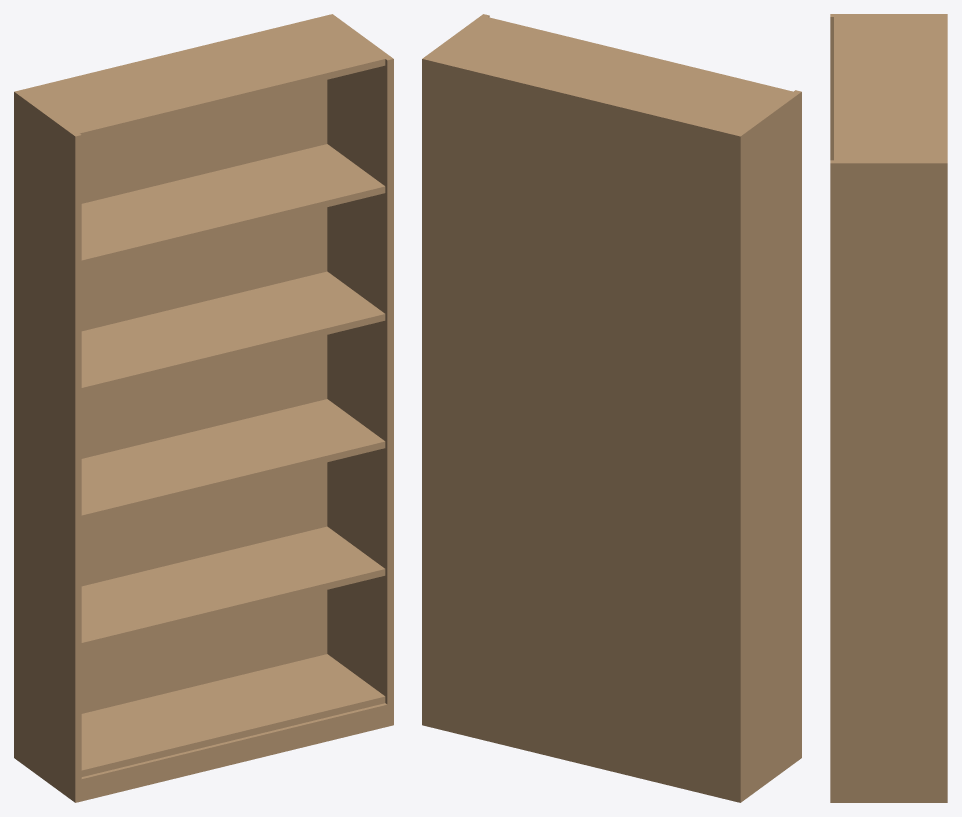
File: librero.glb
3 views of the same model, side by side, from view 1: azimuth 30°, elevation 25°; view 2: azimuth 150°, elevation 25°; view 3: azimuth 270°, elevation 25° (orthographic). The views are drawn at different scales.
Visible parts, largest first — view 1: Mueble; view 2: Mueble; view 3: Mueble.
Boxes of the visible parts, <box> form: Mueble: <box>14,14,393,802</box>; Mueble: <box>422,14,801,802</box>; Mueble: <box>830,14,947,802</box>.
Size of the model in its own units: 0.9 by 1.8 by 0.3.
